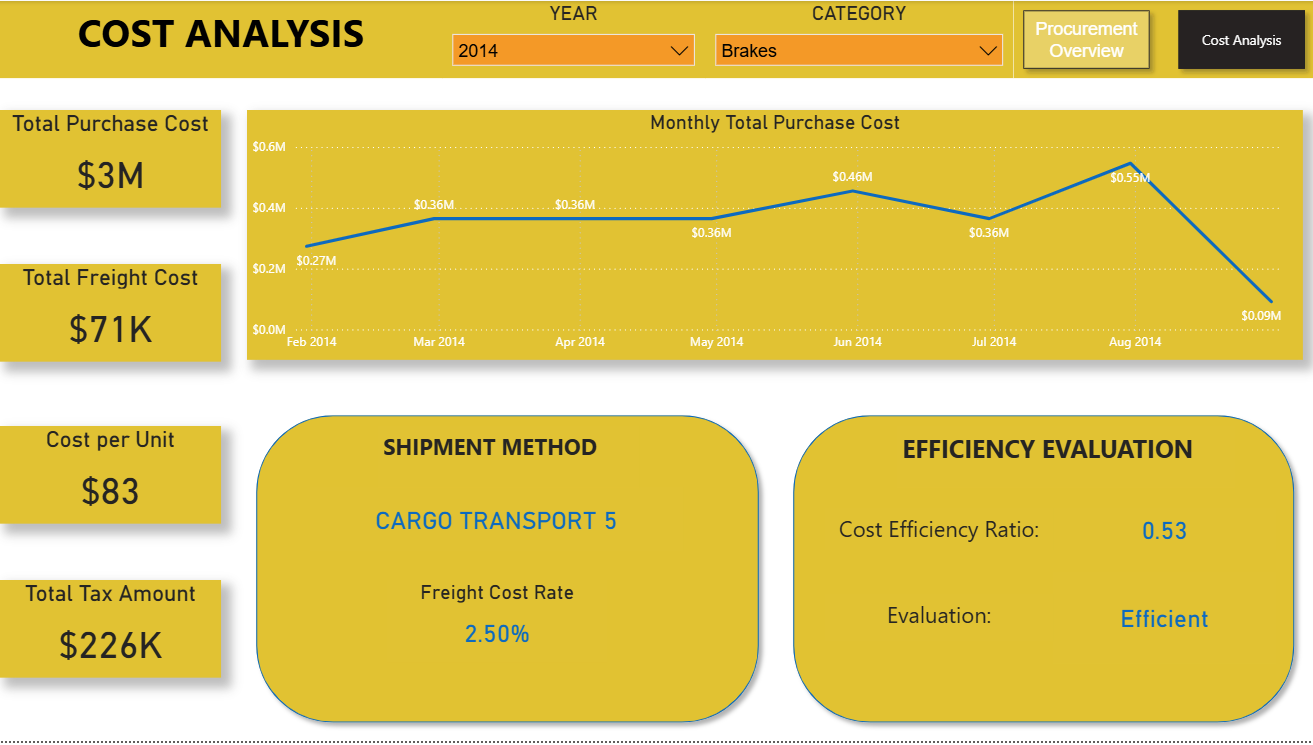

Layout of this report page (visuals, bound fields, positions):
{"tool":"powerbi","page":{"name":"Cost Analysis","canvas":[1280,720],"ordinal":1},"visuals":[{"type":"pageNavigator","box":[986,0,294,75],"z":0},{"type":"textbox","box":[0,0,430,75],"z":1000},{"type":"slicer","title":"YEAR","fields":{"Values":["dimDate.Year"]},"box":[430.2,0,255.7,75],"z":2000},{"type":"slicer","title":"CATEGORY","fields":{"Values":["Production ProductSubcategory.Name"]},"box":[685.9,0,300.1,75],"z":3000},{"type":"card","title":"Total Purchase Cost","fields":{"Values":["_Measure.TotalPurchaseCost"]},"box":[0,105.6,215,95],"z":4000},{"type":"card","title":"Total Freight Cost","fields":{"Values":["_Measure.TotalFreightCost"]},"box":[0,255.7,215,95],"z":5000},{"type":"card","title":"Total Tax Amount","fields":{"Values":["_Measure.TotalTaxAmount"]},"box":[0,563.4,215,95],"z":6000},{"type":"card","title":"Cost per Unit","fields":{"Values":["_Measure.CostPerUnit"]},"box":[0,413.4,215,95],"z":7000},{"type":"shape","box":[762.5,393.5,505.3,316.9],"z":8000},{"type":"card","fields":{"Values":["_Measure.CostEfficiency"]},"box":[1024.3,493,217.4,41.3],"z":9000},{"type":"card","fields":{"Values":["_Measure.SubcategoryEfficiencyStatus"]},"box":[1024.3,555.8,217.4,88.8],"z":10000},{"type":"textbox","box":[872.7,413.4,329.2,59.7],"z":11000},{"type":"textbox","box":[802.3,493,222,41.3],"z":12000},{"type":"textbox","box":[802.3,577.2,222,45.9],"z":13000},{"type":"shape","box":[240.4,393.5,506.8,316.9],"z":14000},{"type":"card","fields":{"Values":["Min(dimShipMethod.Name)"]},"box":[301.6,473.1,362.9,62.8],"z":15000},{"type":"textbox","box":[367.5,413.4,254.2,59.7],"z":16000},{"type":"lineChart","title":"Monthly Total Purchase Cost","fields":{"Category":["dimDate.Date Hierarchy.Month"],"Y":["_Measure.TotalPurchaseCost"]},"box":[240.4,105.6,1027.4,243.4],"z":17000},{"type":"card","title":"Freight Cost Rate","fields":{"Values":["_Measure.FreightCostRatio"]},"box":[376.7,563.4,214.4,79.6],"z":18000}]}

Visuals, with their boxes in screenshot pixels (x1, y1, x2, y2), scaled from the page's 1280x720 canvas onto the 1313x745 screenshot:
pageNavigator: bbox=(1011, 0, 1312, 78)
textbox: bbox=(0, 0, 441, 78)
"YEAR" slicer: bbox=(441, 0, 704, 78)
"CATEGORY" slicer: bbox=(704, 0, 1011, 78)
"Total Purchase Cost" card: bbox=(0, 109, 221, 208)
"Total Freight Cost" card: bbox=(0, 265, 221, 363)
"Total Tax Amount" card: bbox=(0, 583, 221, 681)
"Cost per Unit" card: bbox=(0, 428, 221, 526)
shape: bbox=(782, 407, 1300, 735)
card - _Measure.CostEfficiency: bbox=(1051, 510, 1274, 553)
card - _Measure.SubcategoryEfficiencyStatus: bbox=(1051, 575, 1274, 667)
textbox: bbox=(895, 428, 1233, 490)
textbox: bbox=(823, 510, 1051, 553)
textbox: bbox=(823, 597, 1051, 645)
shape: bbox=(247, 407, 766, 735)
card - Min(dimShipMethod.Name): bbox=(309, 490, 682, 555)
textbox: bbox=(377, 428, 638, 490)
"Monthly Total Purchase Cost" lineChart: bbox=(247, 109, 1300, 361)
"Freight Cost Rate" card: bbox=(386, 583, 606, 665)
